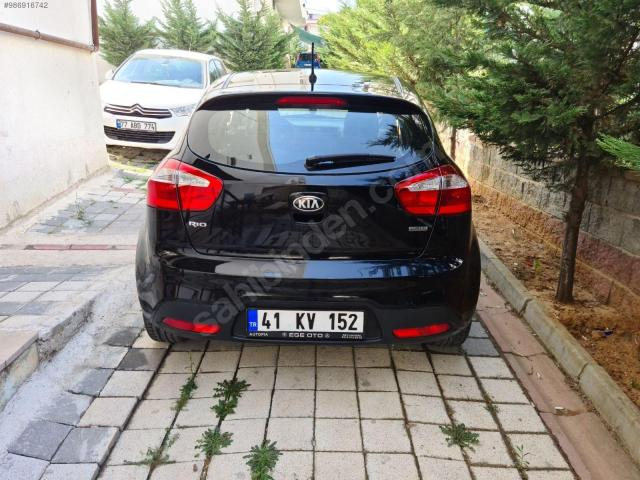plaka: (246, 308, 364, 339), (116, 119, 156, 130)
